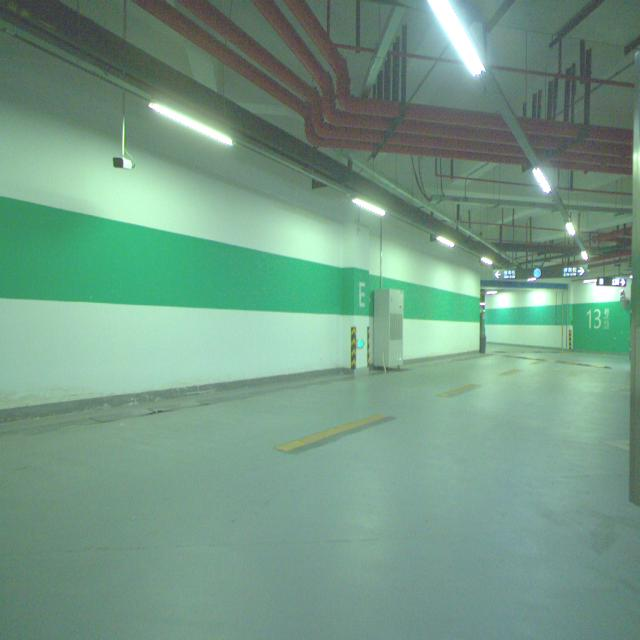wall: (341, 227, 370, 376)
